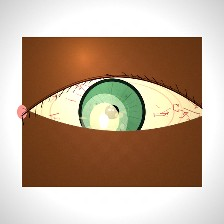corneal_ulcer: (77, 98, 132, 142)
